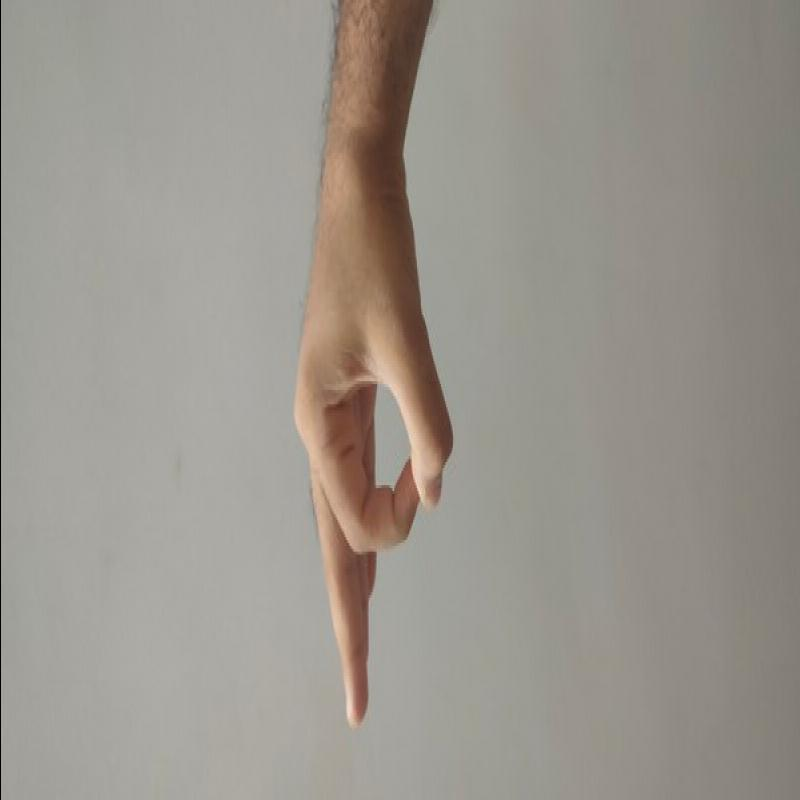Mudraakhyam: (254, 119, 471, 738)
